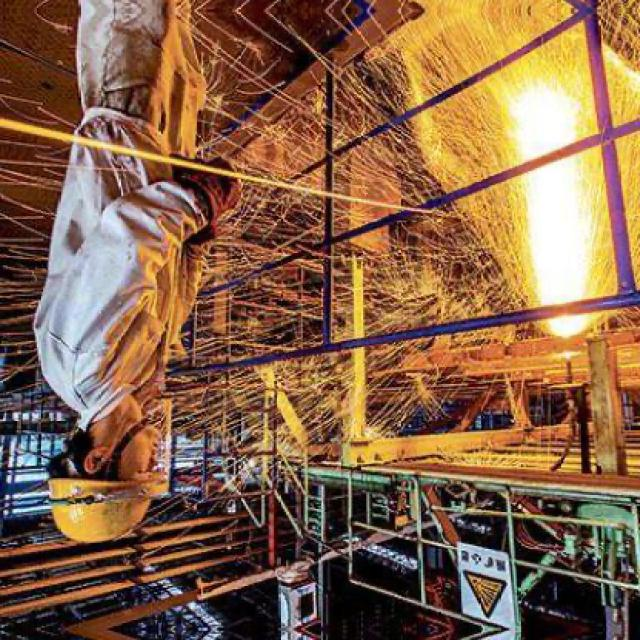con casco: (27, 396, 187, 550)
